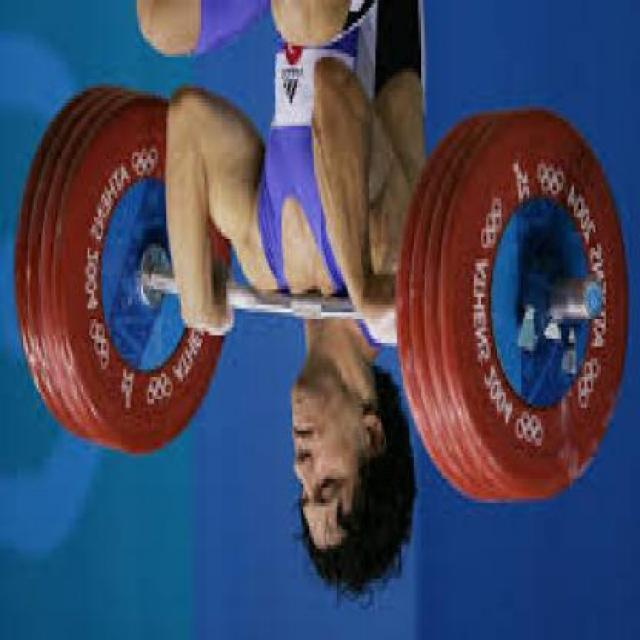Barbell: (583, 269, 605, 322)
